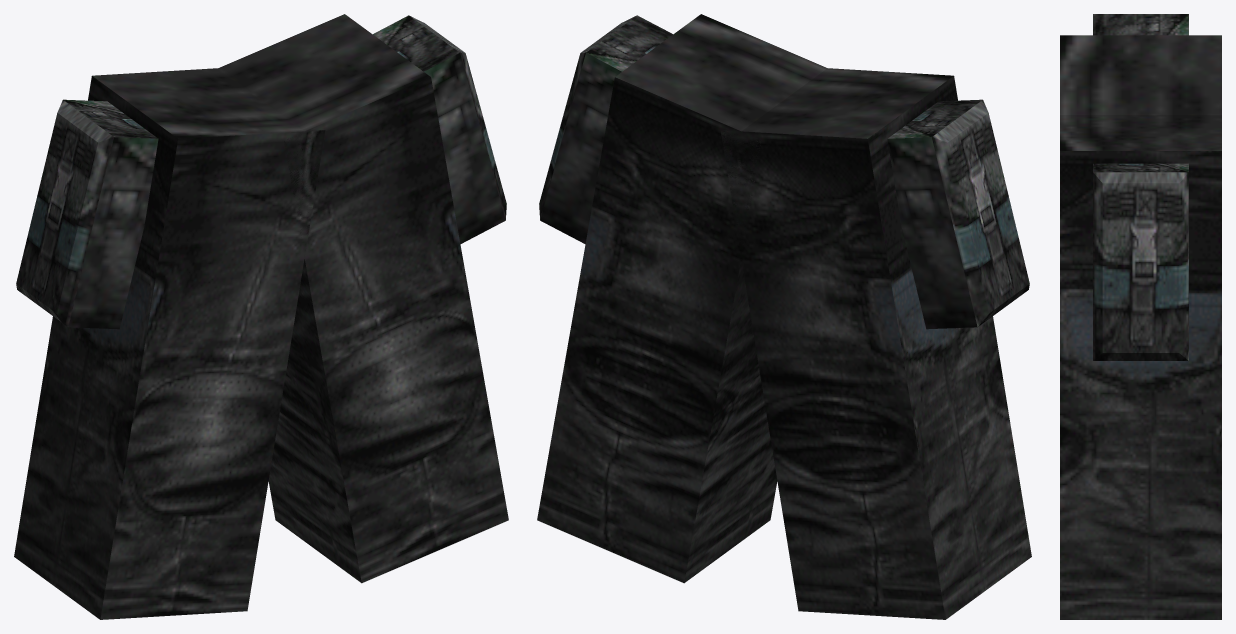
File: arm_seva_legs.obj
3 views of the same model, side by side, from view 1: azimuth 30°, elevation 25°; view 2: azimuth 150°, elevation 25°; view 3: azimuth 270°, elevation 25° (orthographic). The views are drawn at different scales.
Parts seen in each view (by area): view 1: arm_jacket_arm_Cube.001; view 2: arm_jacket_arm_Cube.001; view 3: arm_jacket_arm_Cube.001.
Boxes of the visible parts, x1,y1,x2,y2 form: arm_jacket_arm_Cube.001: (14, 14, 508, 619); arm_jacket_arm_Cube.001: (537, 14, 1031, 619); arm_jacket_arm_Cube.001: (1060, 14, 1221, 619).
Bounding box in the file's own units: 3.01 × 3.13 × 1.
